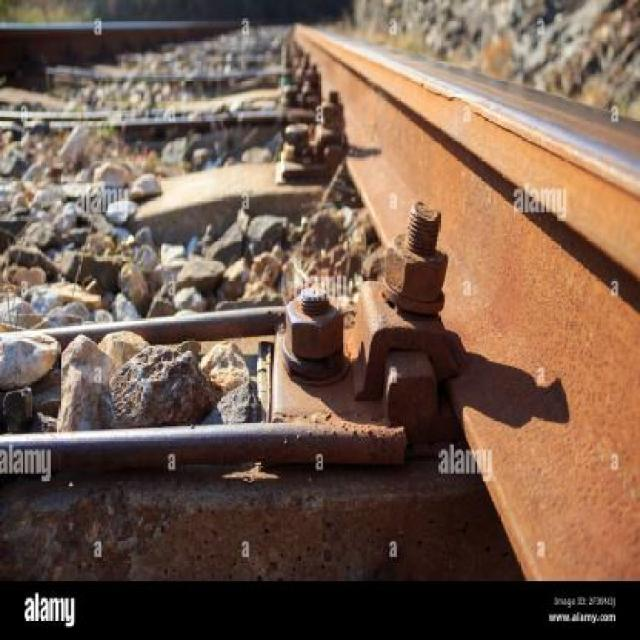defective: (271, 0, 640, 639)
